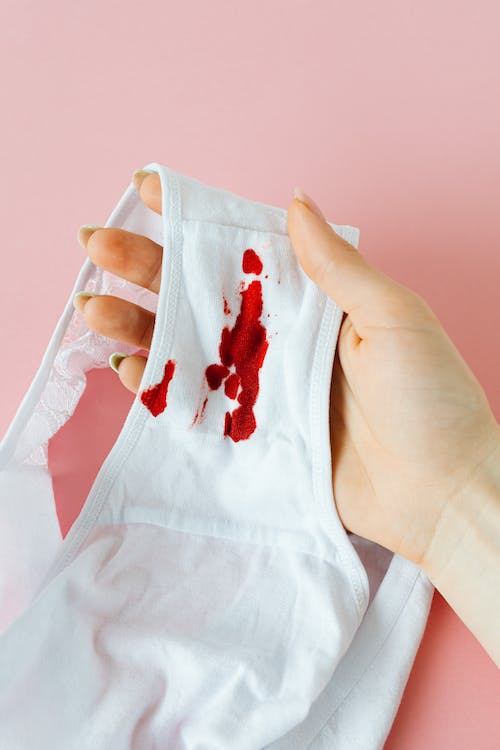blood: (138, 246, 284, 446)
